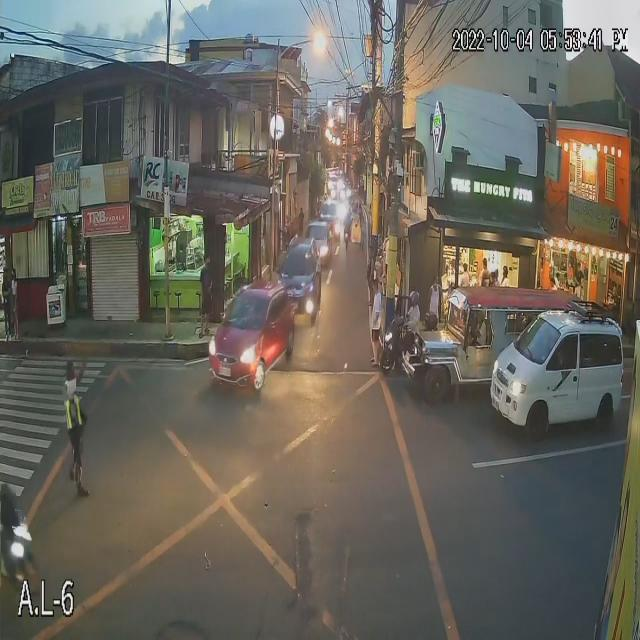helmet: (406, 288, 421, 306)
motorcycle: (382, 321, 423, 372)
rider: (401, 305, 421, 347)
